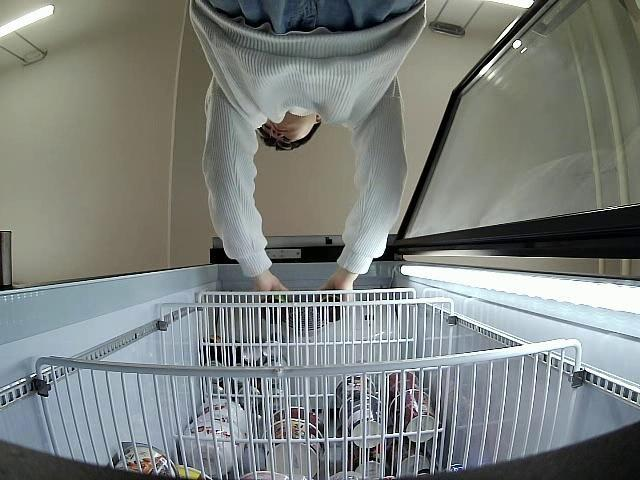19_17cha: (262, 294, 290, 320), (320, 291, 340, 324)
